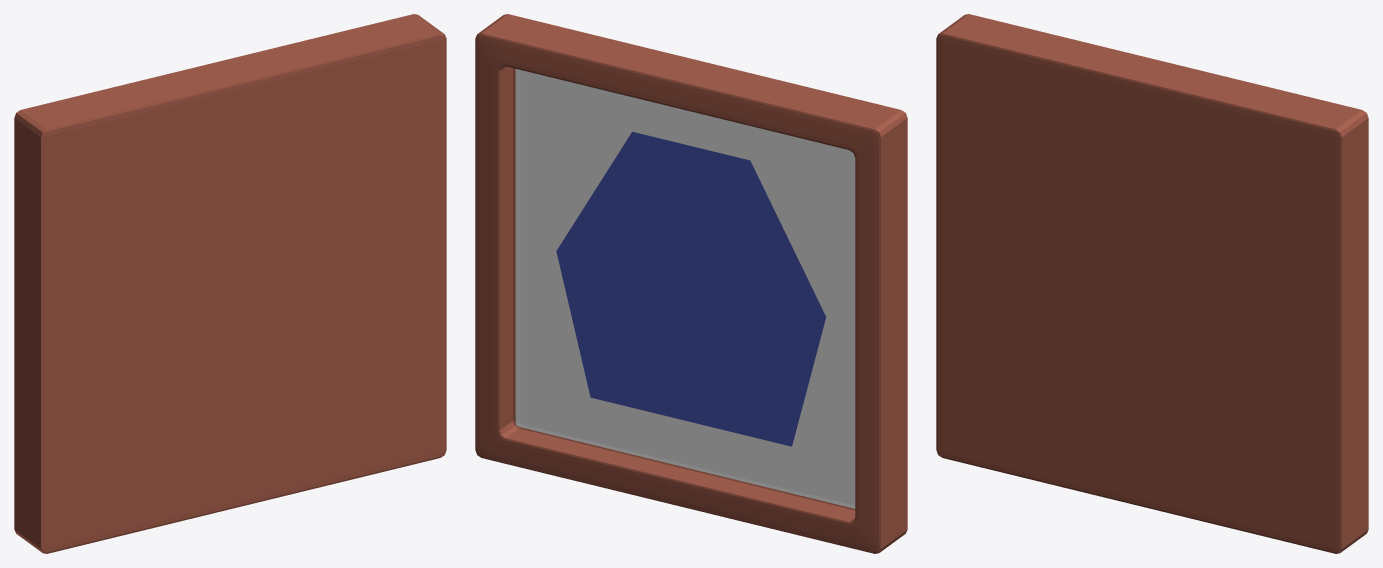
File: tablo11.fbx
3 views of the same model, side by side, from view 1: azimuth 30°, elevation 25°; view 2: azimuth 150°, elevation 25°; view 3: azimuth 330°, elevation 25° (orthographic).
Parts seen in each view (by area): view 1: Cube.022; view 2: Cube.022; view 3: Cube.022.
Part boxes in pixels (x1=…): Cube.022: x1=14, y1=14, x2=446, y2=553; Cube.022: x1=475, y1=14, x2=907, y2=553; Cube.022: x1=936, y1=14, x2=1368, y2=553.
Bounding box in the file's own units: 702 × 702 × 84.01.
